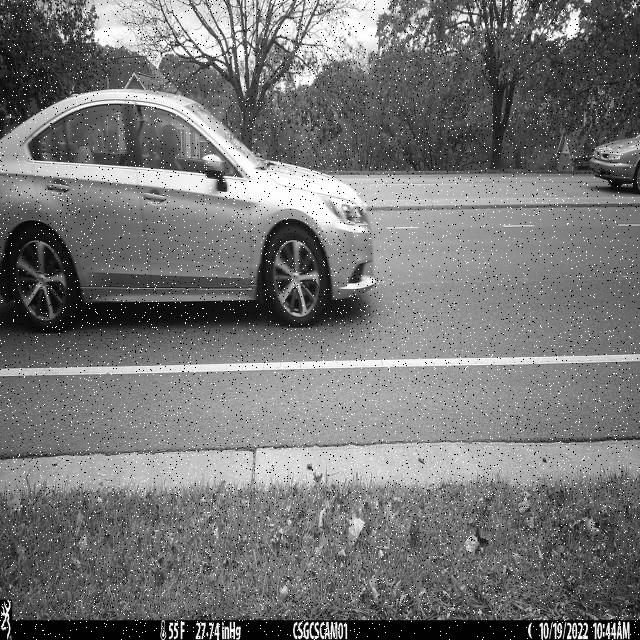Sedan: (0, 90, 376, 335)
